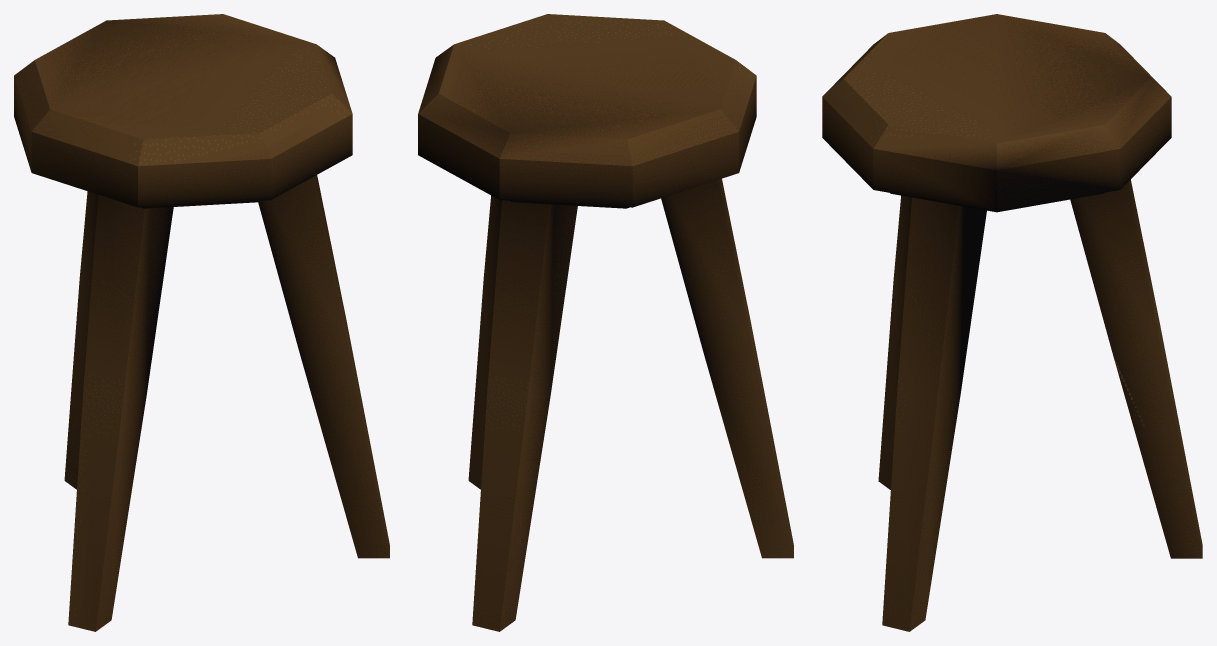
Rendered from LD56_Stool.fbx.
3 renders of one model, left to right at view 1: azimuth 30°, elevation 25°; view 2: azimuth 150°, elevation 25°; view 3: azimuth 270°, elevation 25°, orthographic.
Visible parts, largest first — view 1: stool; view 2: stool; view 3: stool.
Boxes of the visible parts, x1,y1,x2,y2 form: stool: (14, 14, 389, 631); stool: (418, 14, 793, 631); stool: (822, 14, 1202, 631).
Size of the model in its own units: 119 by 167 by 122.
